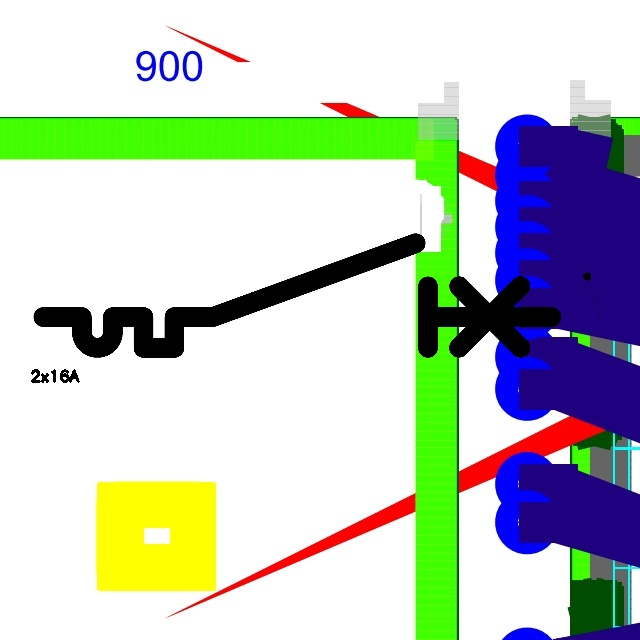interruptor_termomagnetico: (30, 230, 565, 361)
